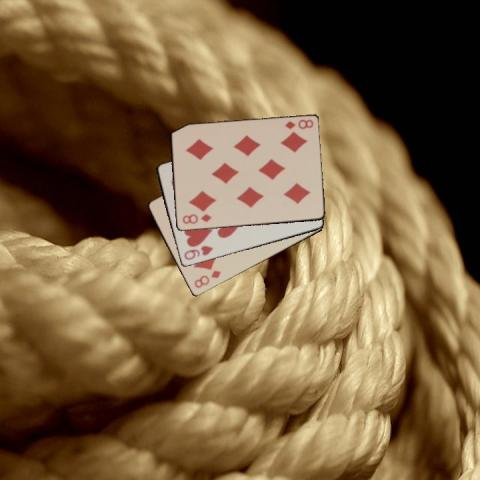8d: (191, 267, 223, 290), (179, 212, 213, 226), (282, 116, 315, 130)
9h: (180, 243, 214, 261)
